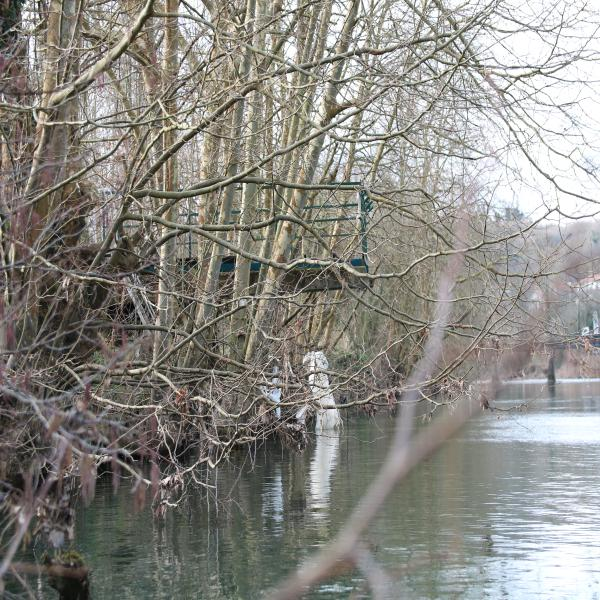fragments: (301, 344, 342, 434), (255, 370, 284, 427), (296, 400, 309, 431)
